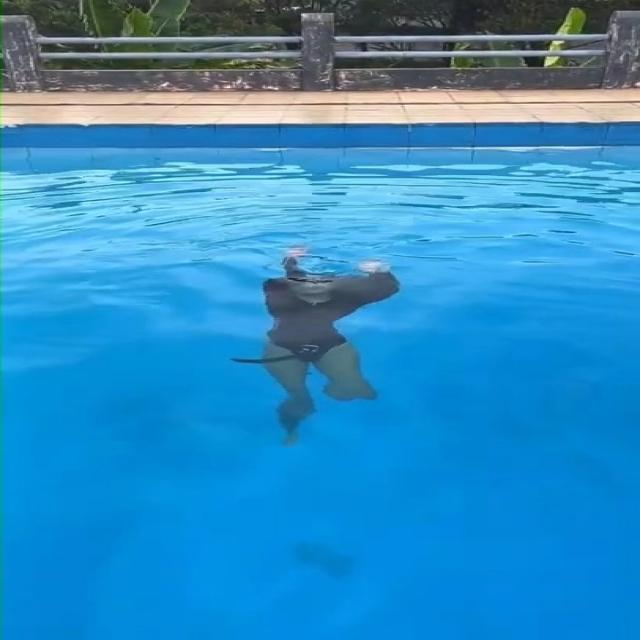drowning: (224, 240, 422, 453)
